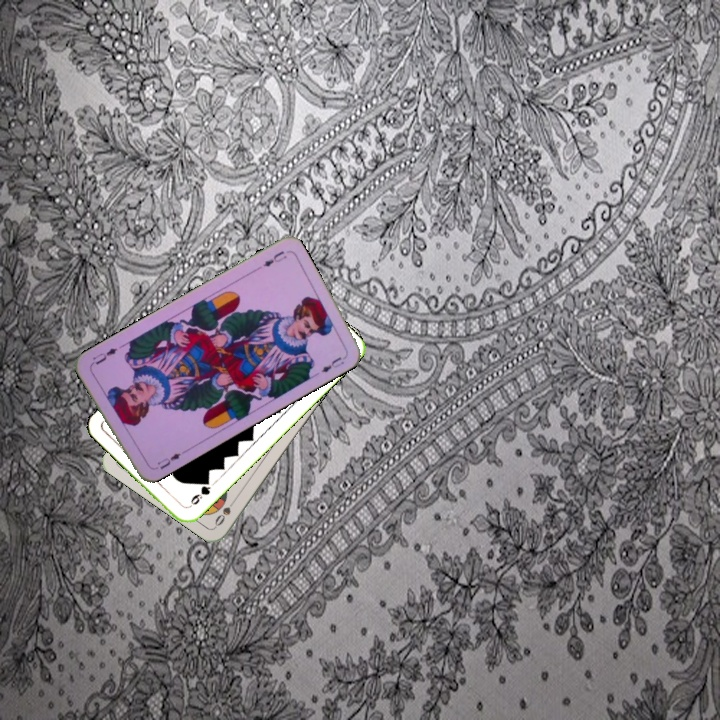EU: (149, 447, 187, 473), (259, 247, 289, 270)
G9: (184, 476, 214, 510)
SO: (210, 493, 239, 529)
